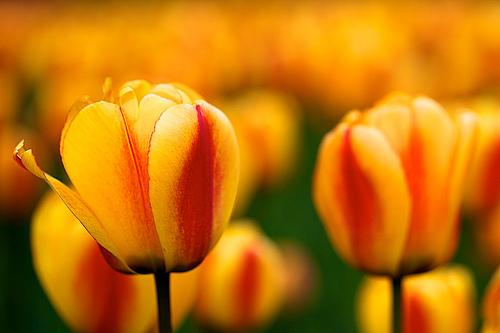tulip: (13, 75, 240, 273), (316, 91, 459, 278)
